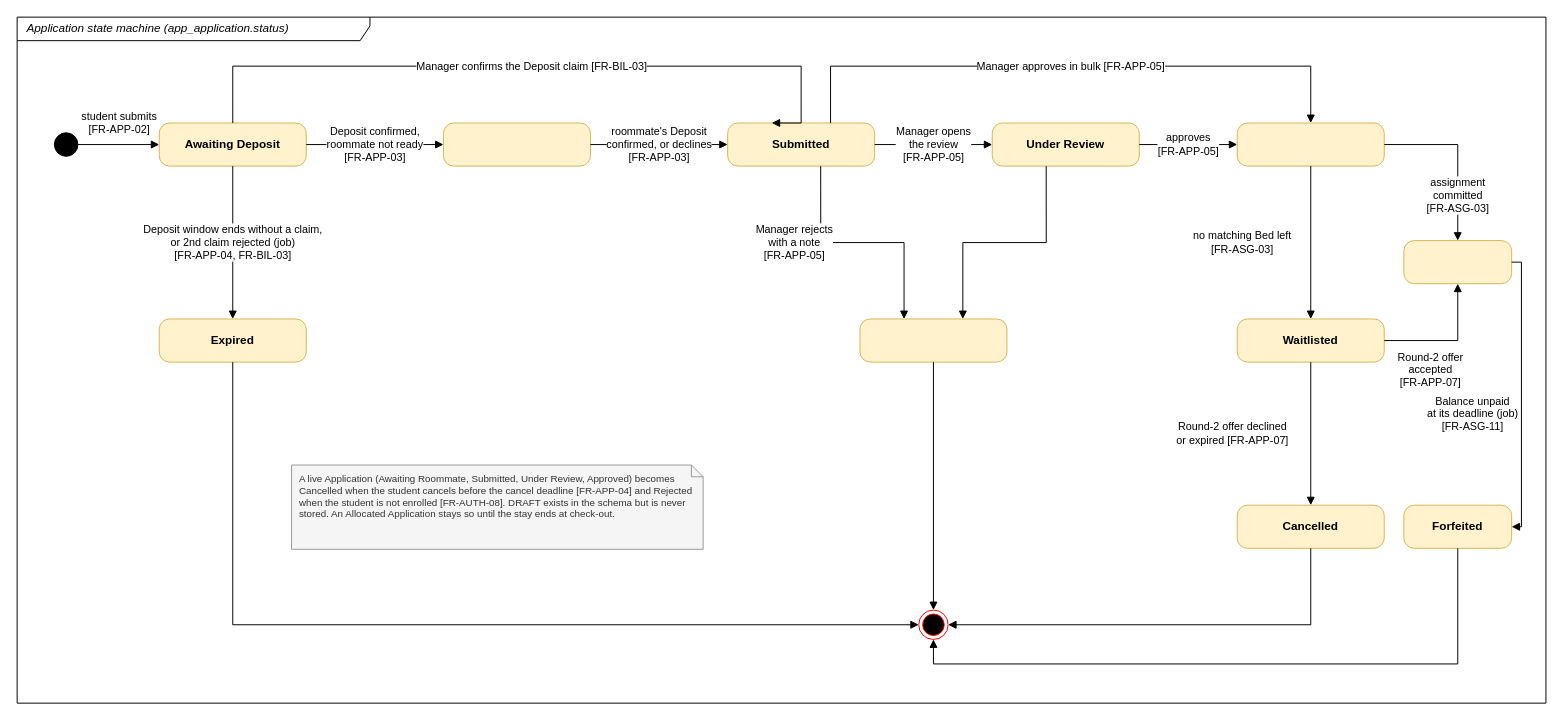
The diagram is 1563 pixels wide and 720 high, and some of its shapes have lost their labels. Here are the shapes that lost their labels. From the top down, the centre of each, then its label:
the point at 516,144: Awaiting Roommate
the point at 1310,144: Approved
the point at 1457,262: Allocated
the point at 933,340: Rejected
